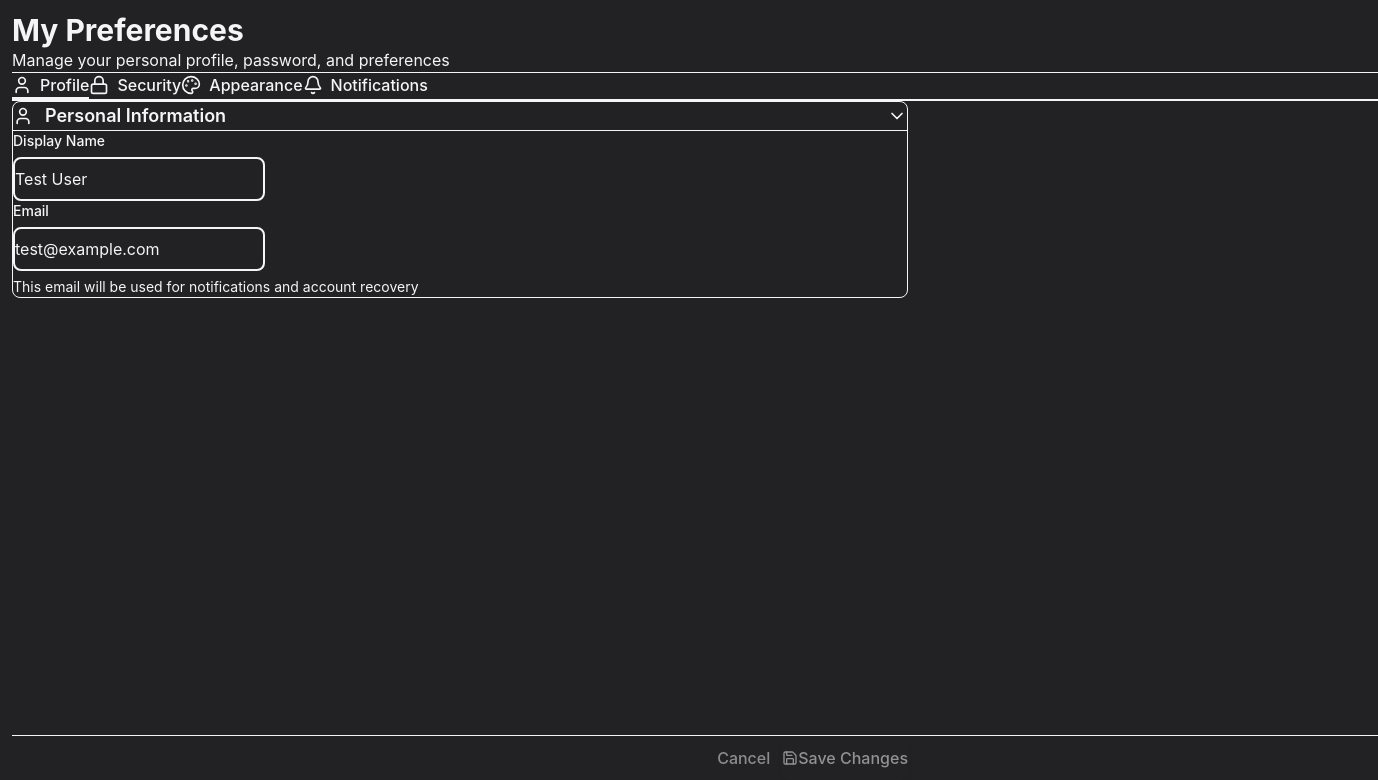
Test: MyPreferencesPage › Tab Navigation (Requirement 4.1) › should switch to Notifications tab when clicked
This screenshot has width=1378, height=780.
Click the tab "Notifications". click: (365, 86)
box: [302,73,428,99]
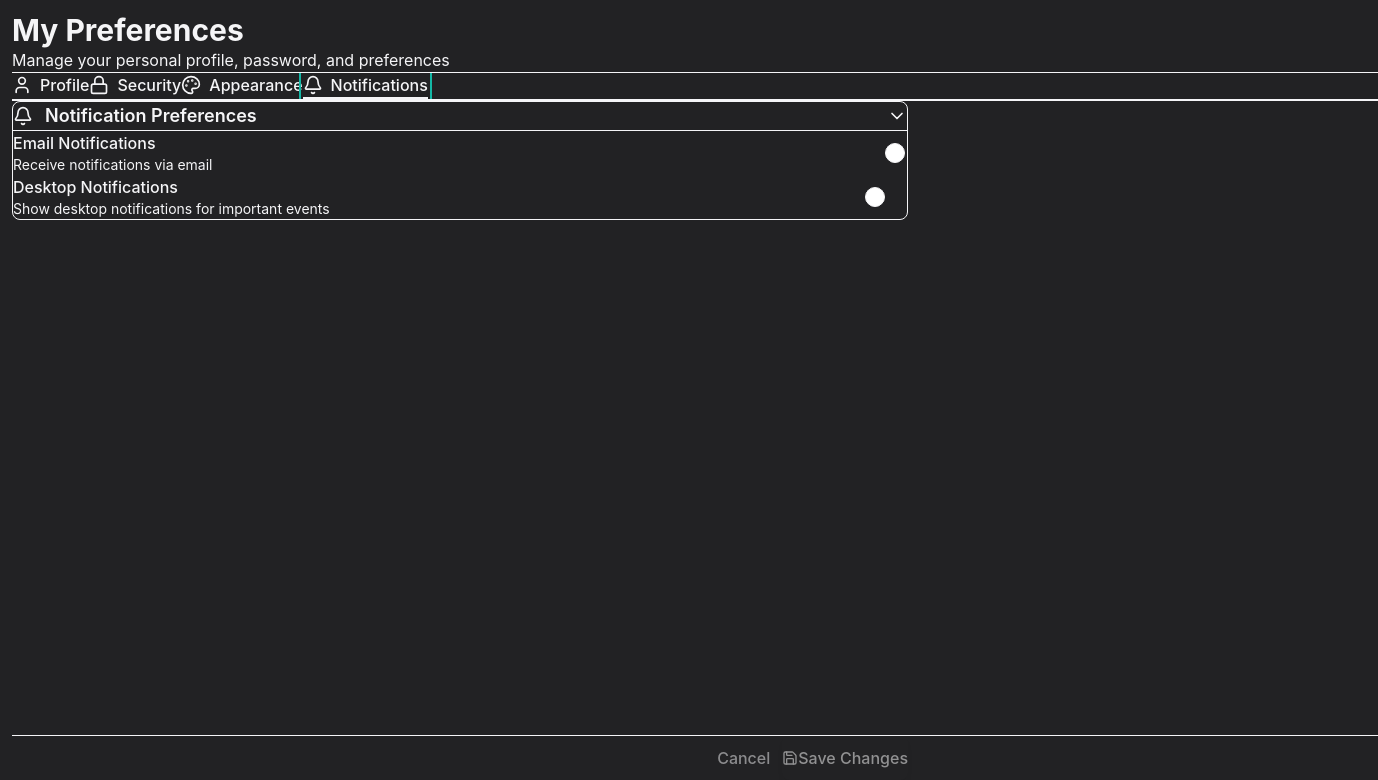
Expected: the heading "Notification Preferences" is shown, [45,102,257,130]
